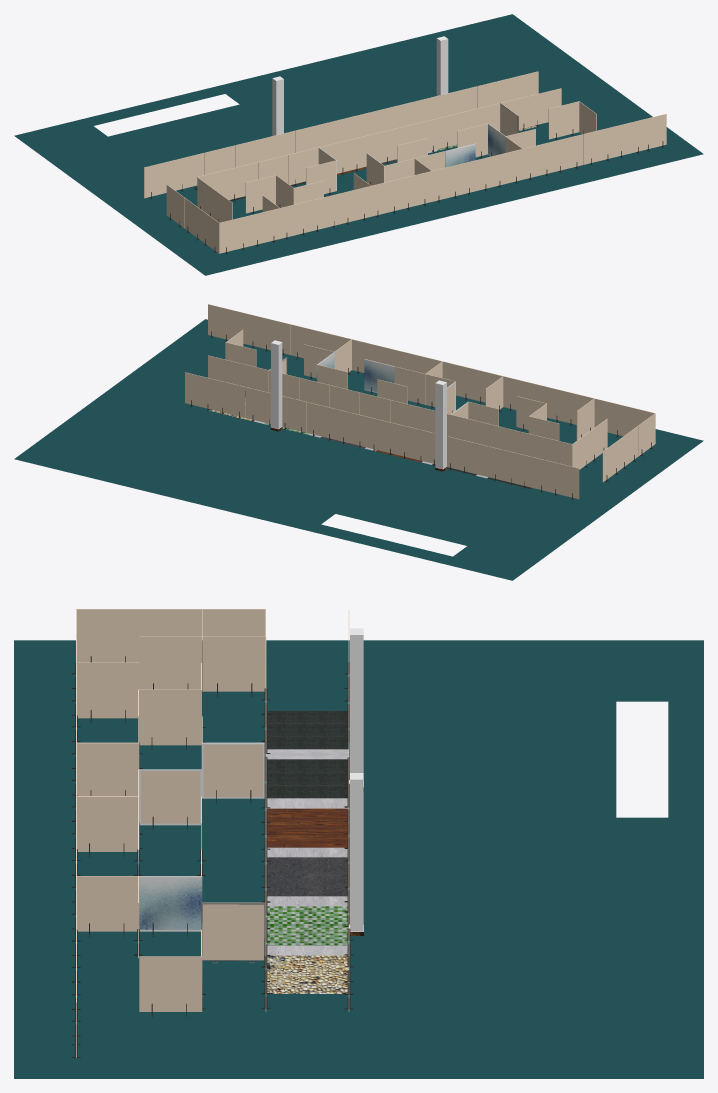
The model's file is sai_di1.dae.
3 views of the same model, one above another, from view 1: azimuth 30°, elevation 25°; view 2: azimuth 150°, elevation 25°; view 3: azimuth 270°, elevation 25° (orthographic). The views are drawn at different scales.
Parts seen in each view (by area): view 1: _1; view 2: _1; view 3: _1.
Boxes of the visible parts, <box> form: _1: <box>14,14,703,275</box>; _1: <box>14,304,703,580</box>; _1: <box>14,609,703,1078</box>.
Bounding box in the file's own units: 18.05 × 12 × 3.
Materials: 11 (8 with a texture image).
